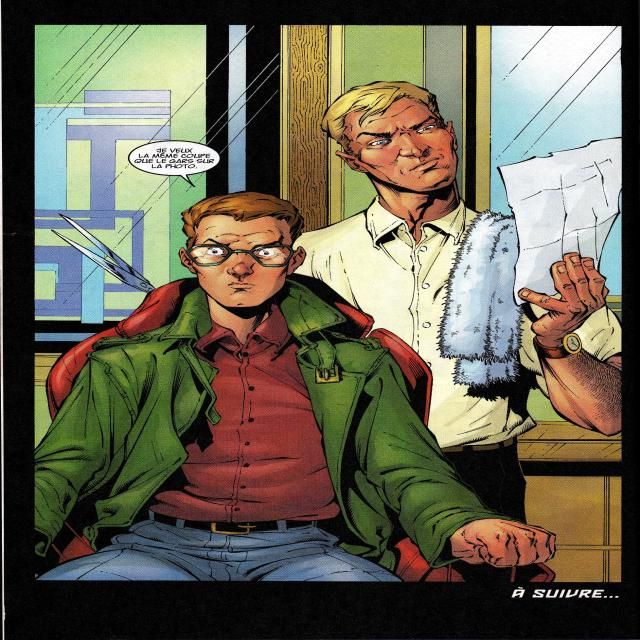comic_panel: (33, 25, 623, 584)
